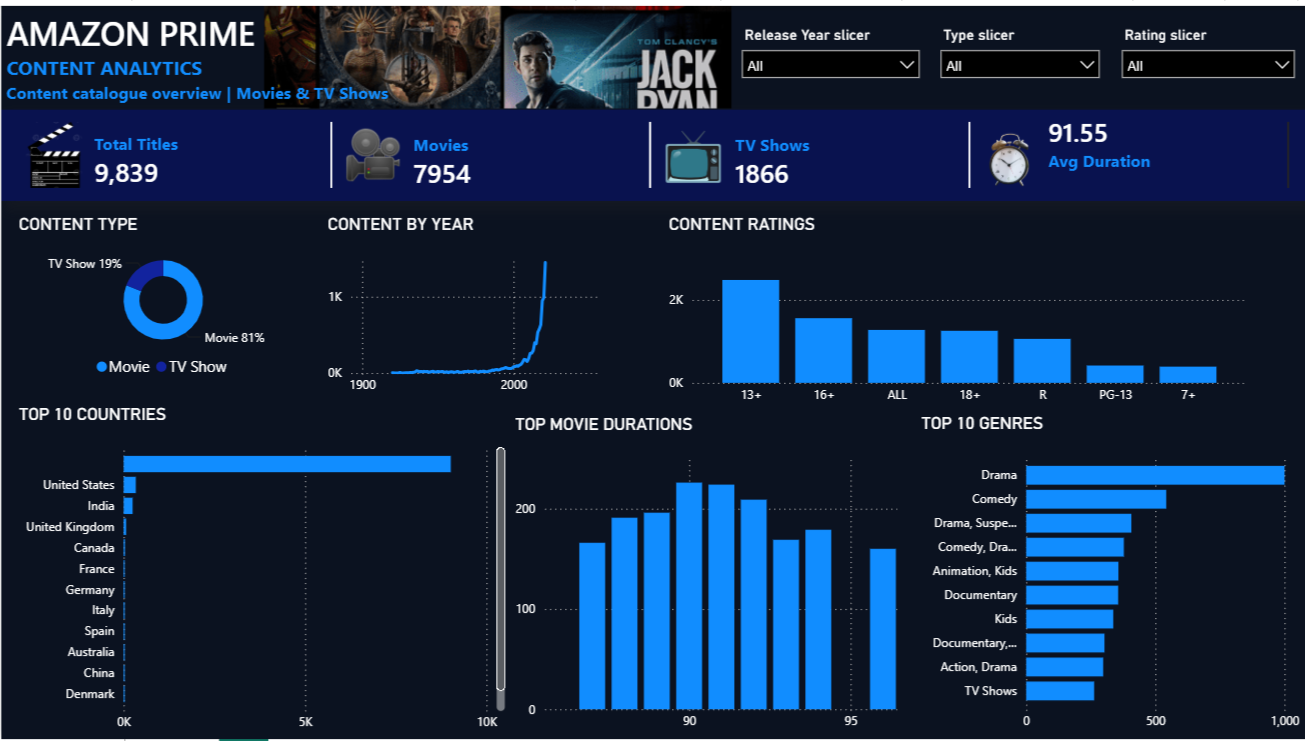

What the dashboard file says about the page in this screenshot:
{"tool":"powerbi","page":{"name":"Page 1","canvas":[1280,720],"ordinal":0},"visuals":[{"type":"textbox","box":[0,0,395.1,73.6],"z":0},{"type":"cardVisual","fields":{"Data":["CountNonNull(amazon_prime_cleaned_utf8.show_id)","amazon_prime_cleaned_utf8.Movies","amazon_prime_cleaned_utf8.TV Shows","amazon_prime_cleaned_utf8.Avg Duration"]},"box":[0,101.8,1279.8,89.6],"z":1000},{"type":"donutChart","title":"CONTENT TYPE","fields":{"Y":["CountNonNull(amazon_prime_cleaned_utf8.show_id)"],"Category":["amazon_prime_cleaned_utf8.type"]},"box":[12.3,203.7,293.7,170.2],"z":2000},{"type":"lineChart","title":"CONTENT BY YEAR","fields":{"Category":["amazon_prime_cleaned_utf8.release_year"],"Y":["CountNonNull(amazon_prime_cleaned_utf8.show_id)"]},"box":[315.3,203.7,279.9,186.6],"z":3000},{"type":"clusteredBarChart","title":"TOP 10 COUNTRIES","fields":{"Y":["CountNonNull(amazon_prime_cleaned_utf8.show_id)"],"Category":["amazon_prime_cleaned_utf8.country"]},"box":[12.3,390.2,487.1,330.7],"z":4000},{"type":"clusteredBarChart","title":"TOP 10 GENRES","fields":{"Category":["amazon_prime_cleaned_utf8.listed_in"],"Y":["CountNonNull(amazon_prime_cleaned_utf8.show_id)"]},"box":[898.2,398.8,381.6,321.5],"z":5000},{"type":"clusteredColumnChart","title":"CONTENT RATINGS","fields":{"Category":["amazon_prime_cleaned_utf8.rating"],"Y":["CountNonNull(amazon_prime_cleaned_utf8.show_id)"]},"box":[650.3,203.7,577.7,196.2],"z":6000},{"type":"clusteredColumnChart","title":"TOP MOVIE DURATIONS","fields":{"Y":["CountNonNull(amazon_prime_cleaned_utf8.show_id)"],"Category":["amazon_prime_cleaned_utf8.Duration_Min"]},"box":[499.4,400,385.3,320.2],"z":7000},{"type":"slicer","fields":{"Values":["amazon_prime_cleaned_utf8.release_year"]},"box":[716.6,14.7,194.9,74.1],"z":8000},{"type":"slicer","fields":{"Values":["amazon_prime_cleaned_utf8.type"]},"box":[911.7,14.7,176.7,69.9],"z":9000},{"type":"slicer","fields":{"Values":["amazon_prime_cleaned_utf8.rating"]},"box":[1089.6,14.7,190.2,77.3],"z":10000},{"type":"image","box":[257.7,0,458.9,100.6],"z":11000},{"type":"textbox","box":[0,68.7,396.3,31.9],"z":12000}]}

Visuals, with their boxes in screenshot pixels (x1, y1, x2, y2), scaled from the page's 1280x720 canvas onto the 1305x741 screenshot:
textbox: pyautogui.locateOnScreen(0, 0, 403, 76)
cardVisual - CountNonNull(amazon_prime_cleaned_utf8.show_id) x amazon_prime_cleaned_utf8.Movies: pyautogui.locateOnScreen(0, 105, 1304, 197)
"CONTENT TYPE" donutChart: pyautogui.locateOnScreen(13, 210, 312, 385)
"CONTENT BY YEAR" lineChart: pyautogui.locateOnScreen(321, 210, 607, 402)
"TOP 10 COUNTRIES" clusteredBarChart: pyautogui.locateOnScreen(13, 402, 509, 740)
"TOP 10 GENRES" clusteredBarChart: pyautogui.locateOnScreen(916, 410, 1304, 740)
"CONTENT RATINGS" clusteredColumnChart: pyautogui.locateOnScreen(663, 210, 1252, 412)
"TOP MOVIE DURATIONS" clusteredColumnChart: pyautogui.locateOnScreen(509, 412, 902, 740)
slicer - amazon_prime_cleaned_utf8.release_year: pyautogui.locateOnScreen(731, 15, 929, 91)
slicer - amazon_prime_cleaned_utf8.type: pyautogui.locateOnScreen(930, 15, 1110, 87)
slicer - amazon_prime_cleaned_utf8.rating: pyautogui.locateOnScreen(1111, 15, 1304, 95)
image: pyautogui.locateOnScreen(263, 0, 731, 104)
textbox: pyautogui.locateOnScreen(0, 71, 404, 104)
